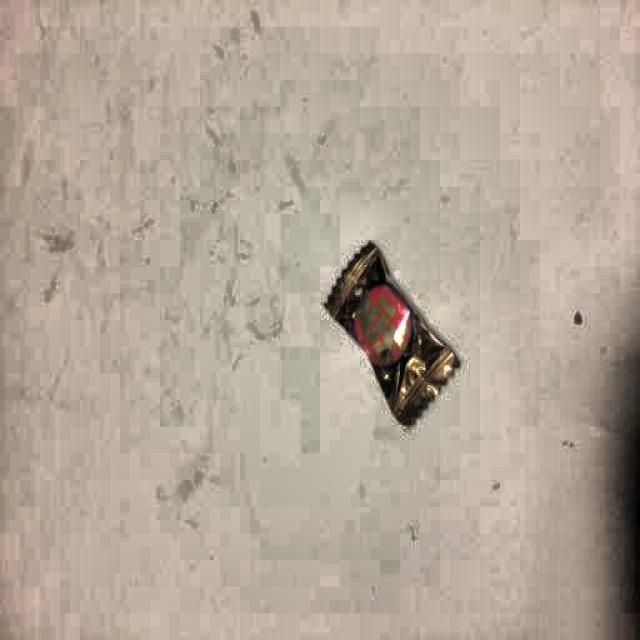trash: (319, 238, 459, 422)
